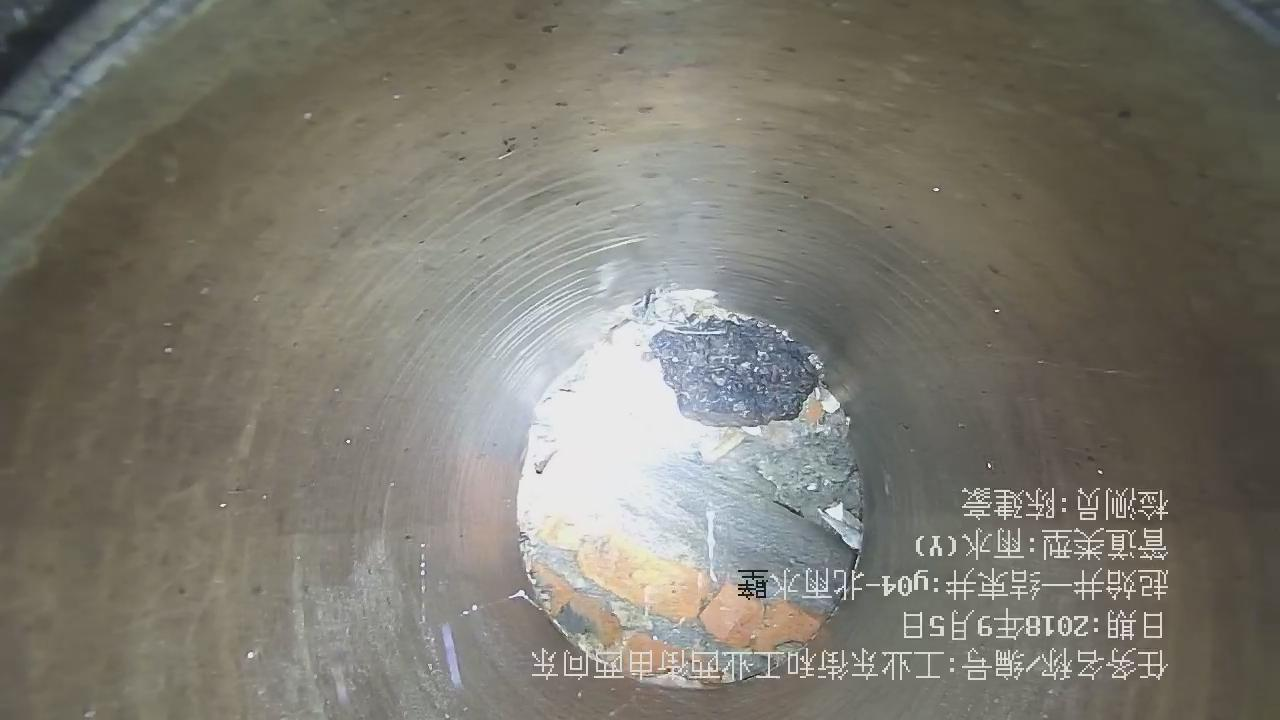CQBG: (518, 289, 863, 663)
